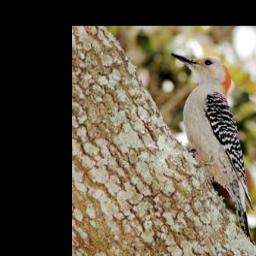Woodpecker: (167, 43, 256, 249)
